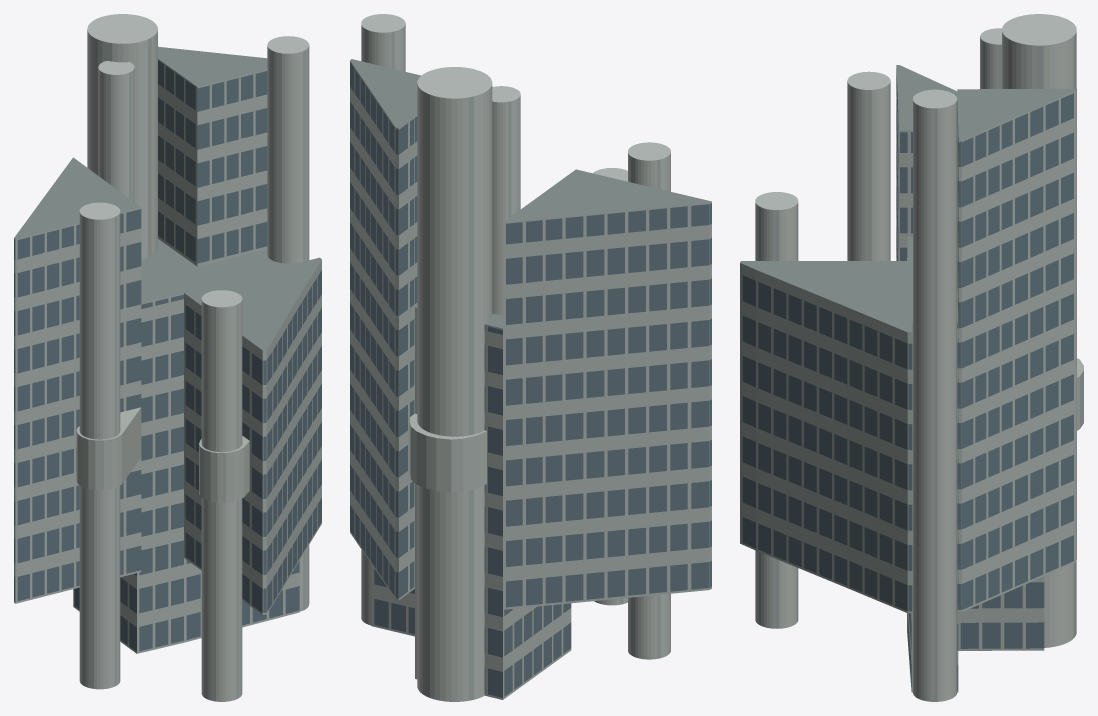
Rendered from hypo-haus-munich-far.glb.
3 views of the same model, side by side, from view 1: azimuth 30°, elevation 25°; view 2: azimuth 150°, elevation 25°; view 3: azimuth 270°, elevation 25° (orthographic). The views are drawn at different scales.
Visible parts, largest first — view 1: hypo-haus-munich-0-glass, hypo-haus-munich-0-shaft, hypo-haus-munich-0-frame, hypo-haus-munich-0-roof, hypo-haus-munich-0-rib, hypo-haus-munich-0-metal; view 2: hypo-haus-munich-0-glass, hypo-haus-munich-0-frame, hypo-haus-munich-0-shaft, hypo-haus-munich-0-roof, hypo-haus-munich-0-rib, hypo-haus-munich-0-metal; view 3: hypo-haus-munich-0-glass, hypo-haus-munich-0-frame, hypo-haus-munich-0-shaft, hypo-haus-munich-0-roof, hypo-haus-munich-0-rib.
Boxes of the visible parts, x1,y1,x2,y2 form: hypo-haus-munich-0-glass: (14,60,321,651); hypo-haus-munich-0-shaft: (79,14,309,701); hypo-haus-munich-0-frame: (14,59,321,653); hypo-haus-munich-0-roof: (14,46,321,350); hypo-haus-munich-0-rib: (91,37,305,701); hypo-haus-munich-0-metal: (76,407,249,502); hypo-haus-munich-0-glass: (350,62,711,697); hypo-haus-munich-0-frame: (350,60,711,699); hypo-haus-munich-0-shaft: (361,14,670,701); hypo-haus-munich-0-roof: (350,59,711,328); hypo-haus-munich-0-rib: (366,29,660,700); hypo-haus-munich-0-metal: (409,413,486,492); hypo-haus-munich-0-glass: (742,69,1073,690); hypo-haus-munich-0-frame: (740,67,1076,692); hypo-haus-munich-0-shaft: (755,14,1076,701); hypo-haus-munich-0-roof: (740,65,1076,332); hypo-haus-munich-0-rib: (756,33,1075,701).
Size of the model in its own units: 65.38 by 114 by 58.79.
